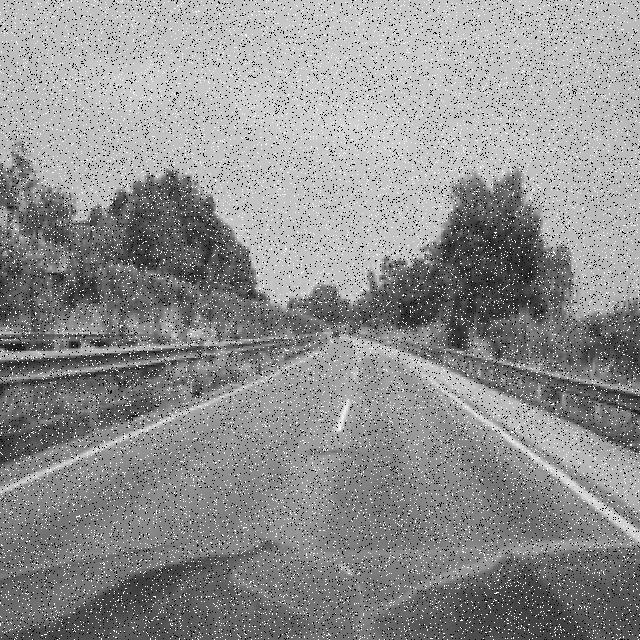clear-road: (0, 339, 627, 577)
